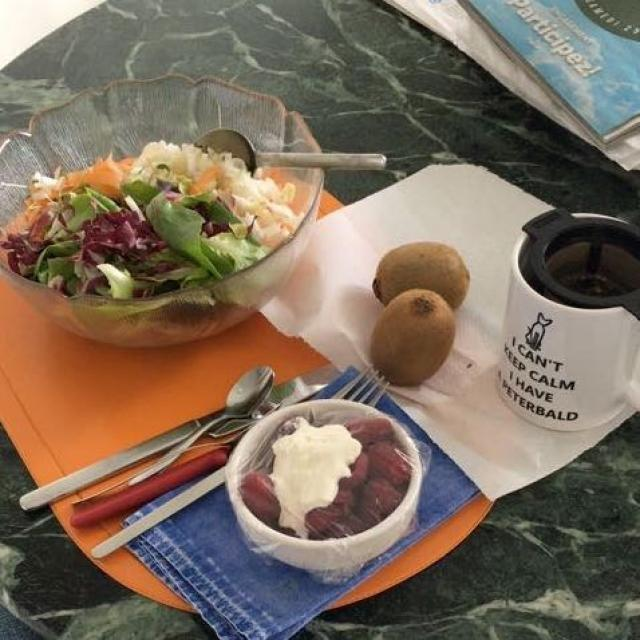carrot: (9, 158, 142, 248)
kiwi: (363, 240, 478, 393)
raspberries: (250, 406, 417, 539)
salad: (1, 162, 278, 349)
